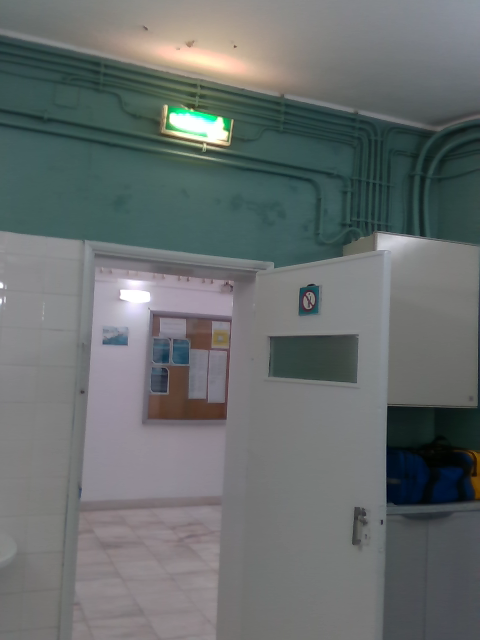open: (55, 241, 389, 639)
